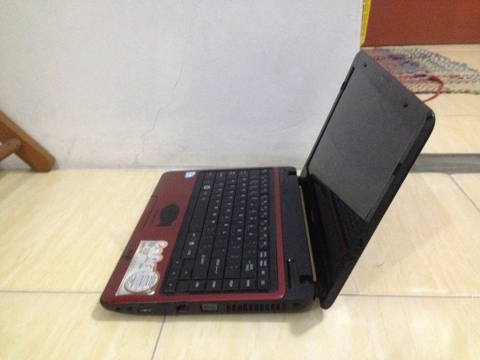pc: (101, 49, 435, 314)
